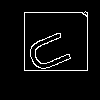U: (25, 25, 81, 77)
